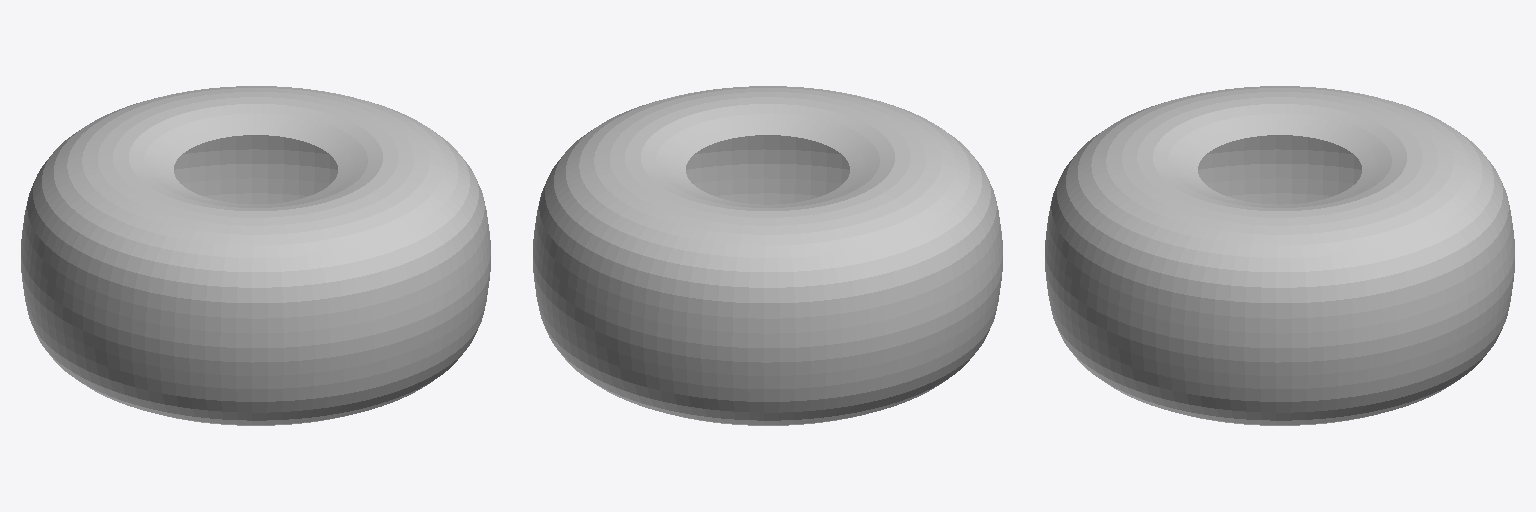
Rendered from gator_tireR_fine.obj.
3 renders of one model, left to right at view 1: azimuth 30°, elevation 25°; view 2: azimuth 150°, elevation 25°; view 3: azimuth 270°, elevation 25°, orthographic.
Bounding box in the file's own units: 0.605 × 0.2795 × 0.6049.